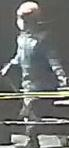gloves: (52, 65, 68, 87)
helmet: (15, 1, 43, 16)
vest: (15, 31, 54, 96)
